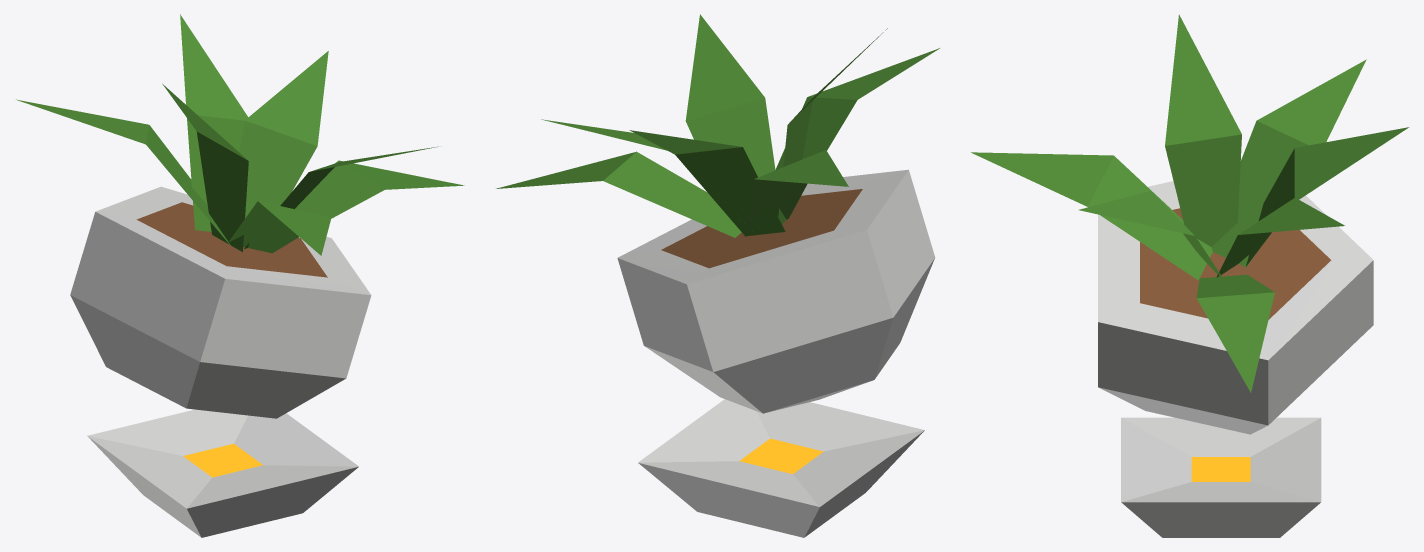
File: scifi_scifi-houseplant.fbx
3 views of the same model, side by side, from view 1: azimuth 30°, elevation 25°; view 2: azimuth 150°, elevation 25°; view 3: azimuth 270°, elevation 25° (orthographic). The views are drawn at different scales.
Visible parts, largest first — view 1: scifi_scifi_houseplant; view 2: scifi_scifi_houseplant; view 3: scifi_scifi_houseplant.
Part boxes in pixels (x1=…): scifi_scifi_houseplant: x1=16, y1=14, x2=464, y2=537; scifi_scifi_houseplant: x1=496, y1=14, x2=939, y2=537; scifi_scifi_houseplant: x1=971, y1=14, x2=1409, y2=537.
Size of the model in its own units: 180 by 200 by 174.
